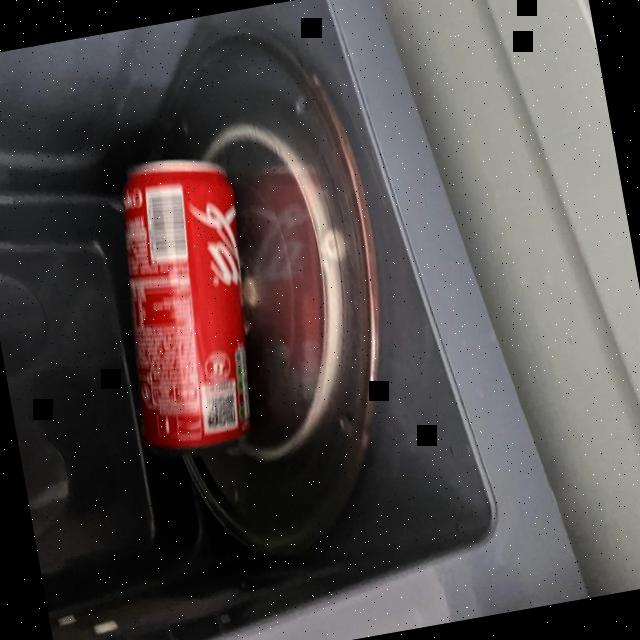can: (82, 133, 284, 472)
